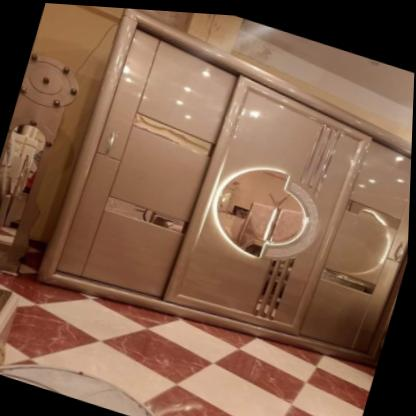Ceramic floor: (0, 274, 379, 416)
Closet: (37, 6, 412, 365)
